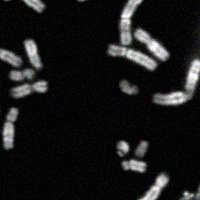chromosome: (154, 58, 200, 106), (105, 44, 158, 71), (119, 0, 146, 45), (133, 27, 169, 60), (130, 172, 168, 200), (3, 106, 19, 150), (12, 80, 48, 98), (24, 38, 43, 71), (1, 0, 45, 13), (0, 45, 22, 67), (121, 159, 146, 172), (120, 79, 140, 95), (9, 70, 34, 80), (135, 139, 148, 158), (116, 140, 129, 157), (179, 190, 194, 200), (195, 181, 200, 200), (75, 0, 94, 1)
